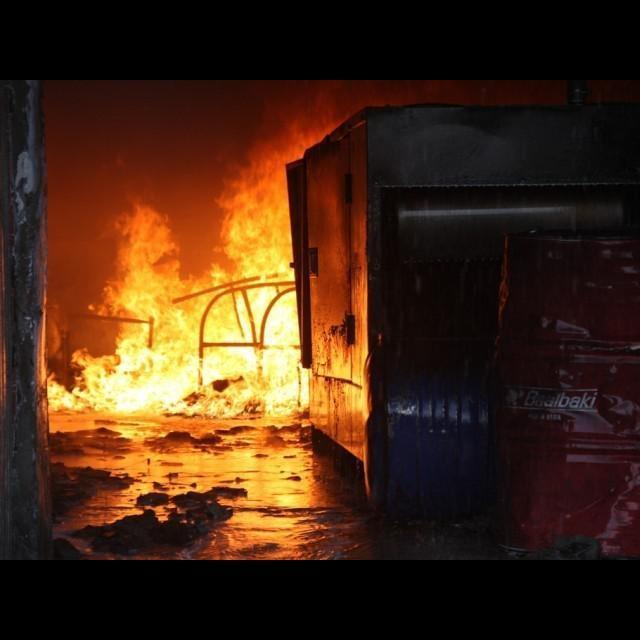Fire: (47, 119, 311, 418)
